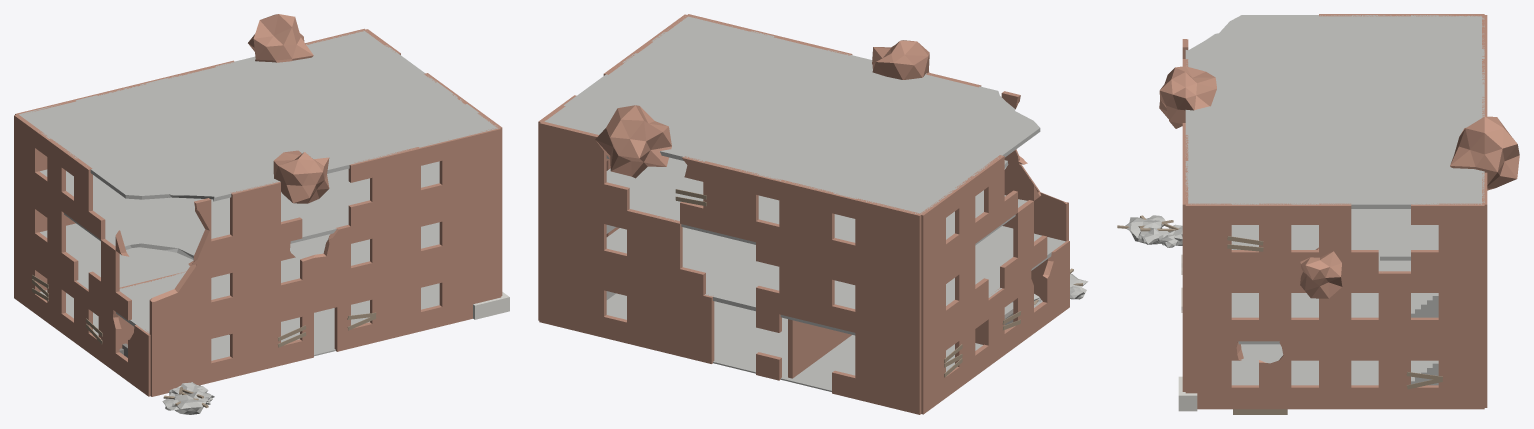
File: predio_r1.glb
3 renders of one model, left to right at view 1: azimuth 30°, elevation 25°; view 2: azimuth 150°, elevation 25°; view 3: azimuth 270°, elevation 25°, orthographic. The views are drawn at different scales.
Parts seen in each view (by area): view 1: teto-col, ext1_0-col, ext0_0-col, ext2_0-col, laje2-col, ext0_3-col, laje1-col, ext2_3-col, ext1_3-col, ext2_2-col, chao-col, desabado (+3 smaller); view 2: teto-col, ext2_2-col, ext1_2-col, ext0_2-col, ext0_3-col, laje1-col, chao-col, ext2_3-col, ext1_3-col, laje2-col, ext2_0-col, ext1_0-col (+2 smaller); view 3: teto-col, ext1_1-col, ext0_1-col, ext2_1-col, laje2-col, ext2_2-col, ext2_0-col, chao-col, laje1-col, desabado, escada2, geladeira-col (+3 smaller).
Part boxes in pixels (box(x1,y1,x2,y2)): teto-col: box(19, 30, 498, 201); ext1_0-col: box(149, 190, 501, 335); ext0_0-col: box(150, 251, 501, 396); ext2_0-col: box(188, 127, 501, 265); laje2-col: box(40, 161, 439, 259); ext0_3-col: box(14, 237, 150, 396); laje1-col: box(40, 222, 439, 333); ext2_3-col: box(14, 114, 129, 256); ext1_3-col: box(14, 176, 131, 320); ext2_2-col: box(15, 14, 366, 171); chao-col: box(40, 283, 439, 360); desabado: box(162, 382, 214, 414); teto-col: box(544, 16, 1040, 214); ext2_2-col: box(539, 105, 921, 282); ext1_2-col: box(539, 189, 921, 348); ext0_2-col: box(539, 256, 921, 414); ext0_3-col: box(921, 240, 1069, 414); laje1-col: box(606, 226, 1065, 335); chao-col: box(606, 293, 1042, 391); ext2_3-col: box(920, 155, 1040, 281); ext1_3-col: box(921, 200, 1047, 347); laje2-col: box(606, 155, 1027, 245); ext2_0-col: box(686, 14, 1027, 164); ext1_0-col: box(1002, 161, 1068, 241); teto-col: box(1185, 15, 1484, 208); ext1_1-col: box(1185, 247, 1484, 341); ext0_1-col: box(1185, 341, 1484, 409); ext2_1-col: box(1185, 203, 1484, 273); laje2-col: box(1231, 209, 1438, 271); ext2_2-col: box(1450, 15, 1519, 272); ext2_0-col: box(1159, 39, 1216, 272); chao-col: box(1231, 344, 1426, 385); laje1-col: box(1231, 260, 1426, 344); desabado: box(1117, 215, 1182, 247); escada2: box(1411, 293, 1438, 317); geladeira-col: box(1178, 376, 1197, 411).
Size of what is drawn, in the model's own units: 19.08 by 11.49 by 16.15.
